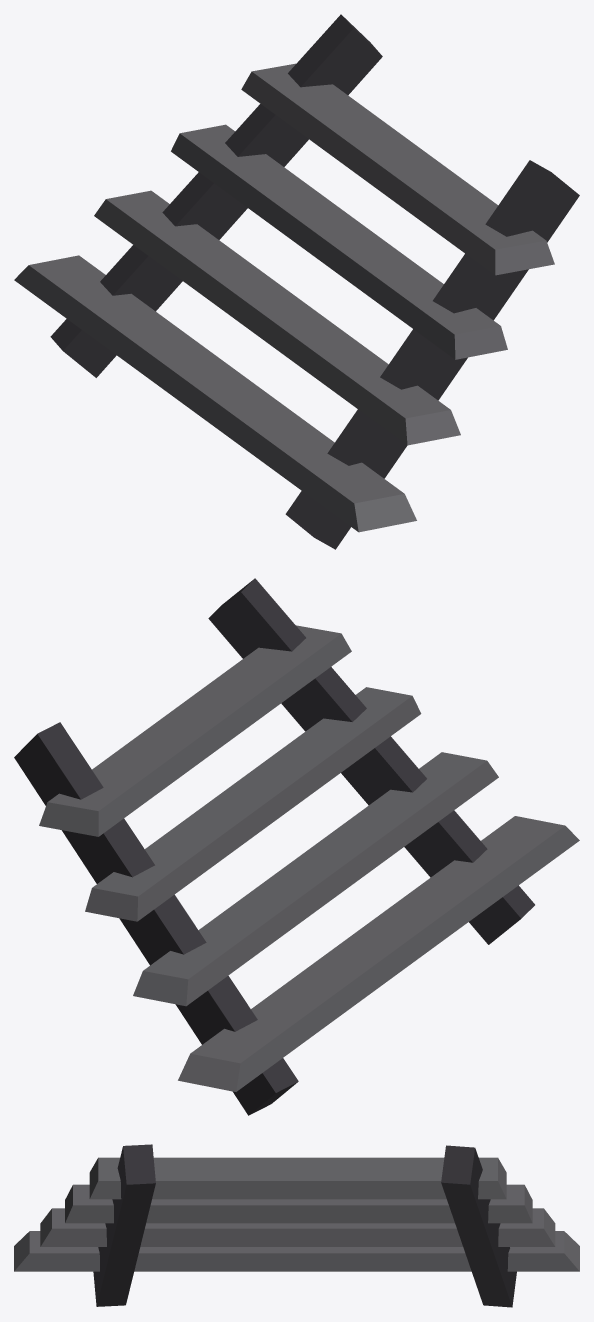
The model's file is steps03.fbx.
3 views of the same model, one above another, from view 1: azimuth 30°, elevation 25°; view 2: azimuth 150°, elevation 25°; view 3: azimuth 270°, elevation 25° (orthographic). The views are drawn at different scales.
Visible parts, largest first — view 1: stairs03; view 2: stairs03; view 3: stairs03.
Part boxes in pixels (left/top/right/bottom): stairs03: left=14, top=14, right=579, bottom=549; stairs03: left=14, top=578, right=579, bottom=1115; stairs03: left=14, top=1144, right=579, bottom=1307.
Bounding box in the file's own units: 183 × 182 × 368.
